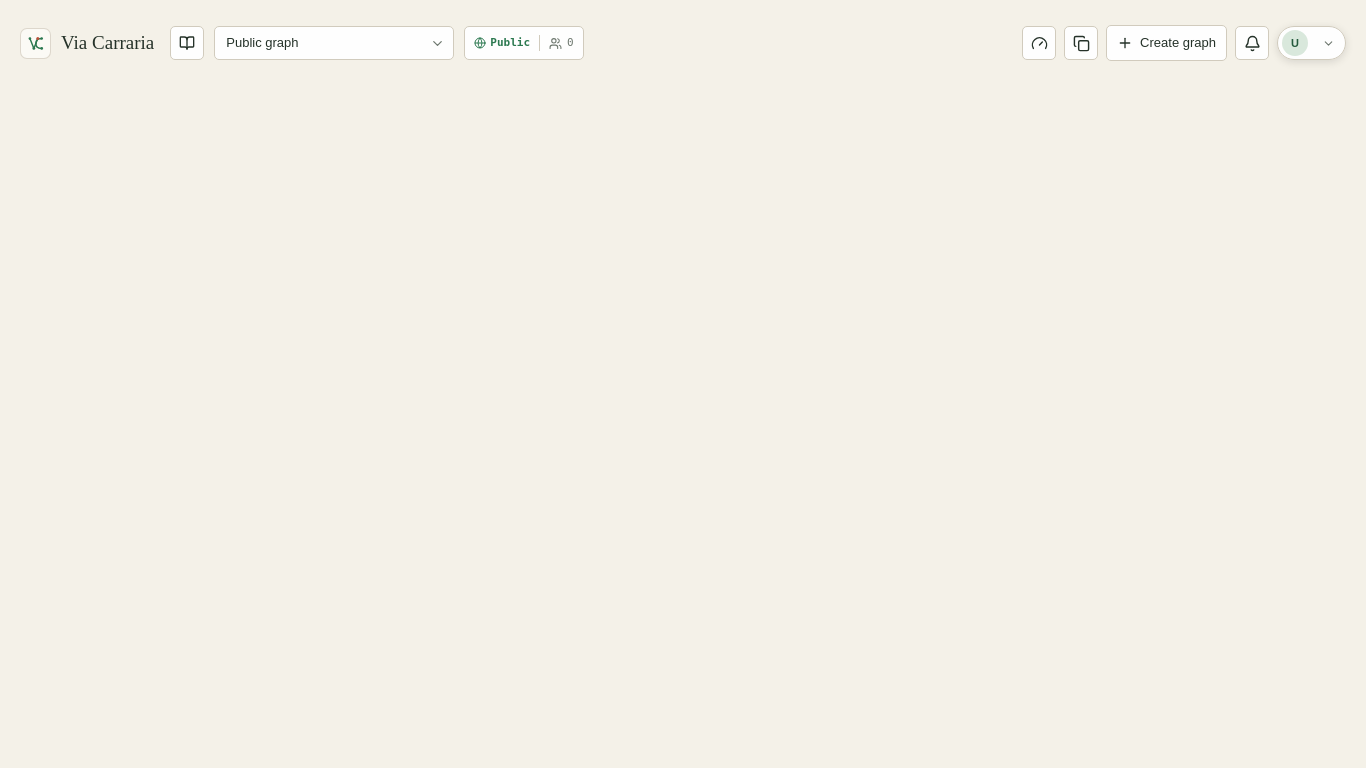
Test: Header graph access controls › displays clean anonymous quota and plan limit values without per-node usage ratios
Click the button named "Limits".
click(1039, 43)  # box [1022, 26, 1056, 60]
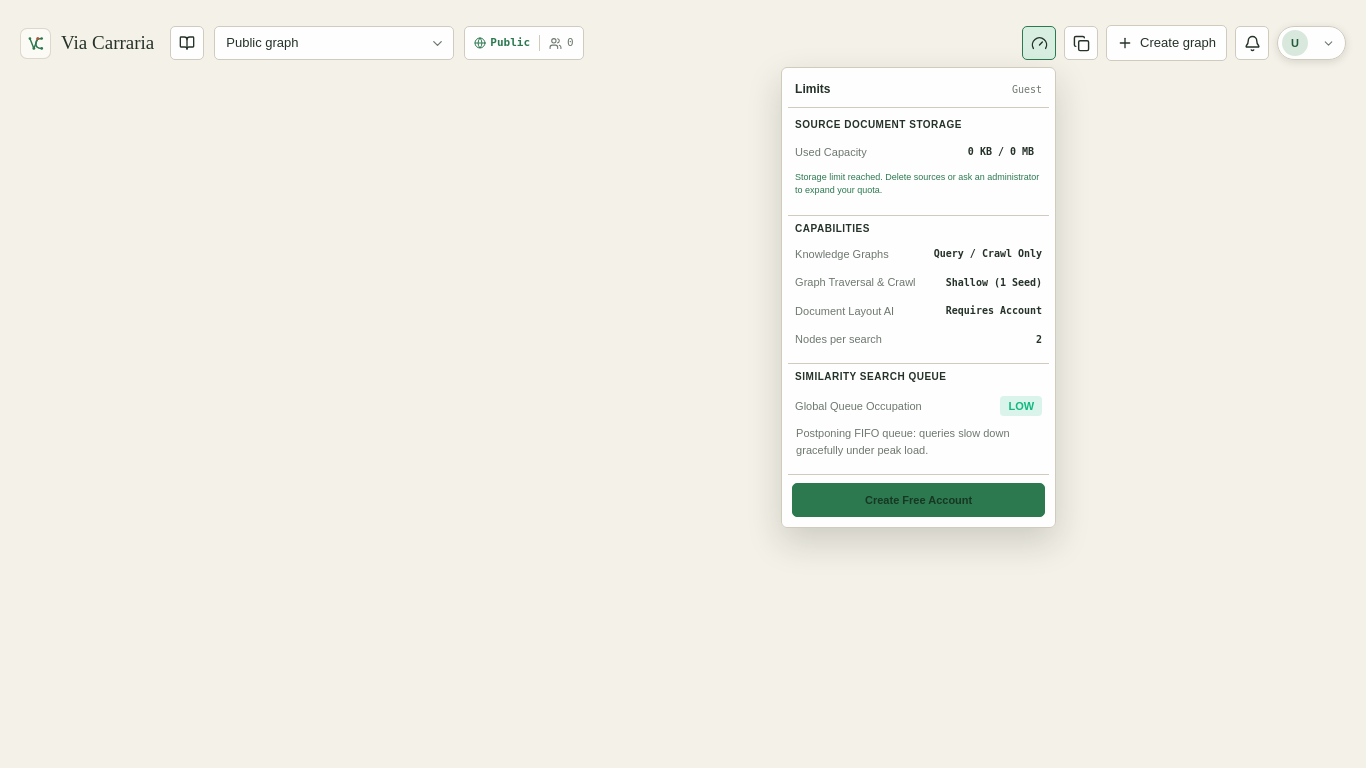
Now the text "Source Document Storage" is shown, box [795, 119, 962, 130]
Now the text "Capabilities" is shown, box [788, 214, 1049, 238]
Now the text "Query / Crawl Only" is shown, box [934, 246, 1042, 261]
